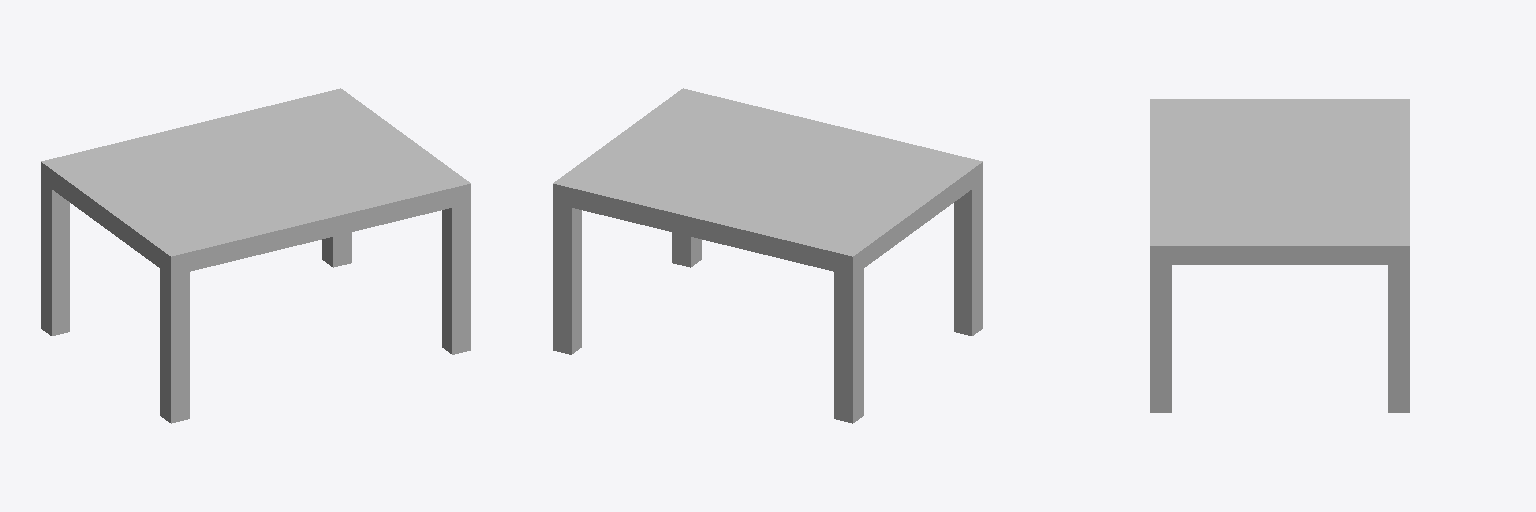
The model's file is table_1.obj.
3 renders of one model, left to right at view 1: azimuth 30°, elevation 25°; view 2: azimuth 150°, elevation 25°; view 3: azimuth 270°, elevation 25°, orthographic.
Parts seen in each view (by area): view 1: Cube; view 2: Cube; view 3: Cube.
Boxes of the visible parts, x1,y1,x2,y2 form: Cube: [41, 88, 470, 423]; Cube: [553, 88, 982, 423]; Cube: [1150, 99, 1409, 412].
Bounding box in the file's own units: 3.2 × 1.7 × 2.4.